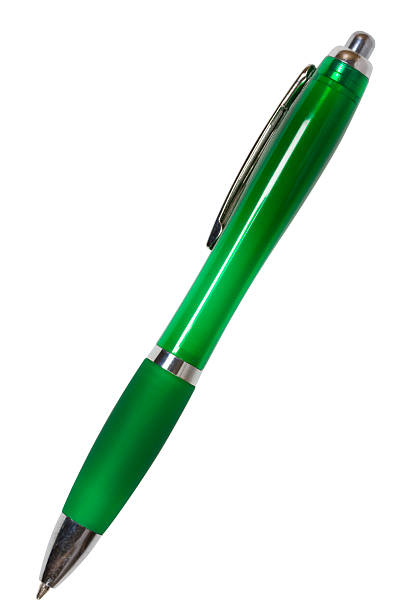pen: (27, 27, 377, 607)
